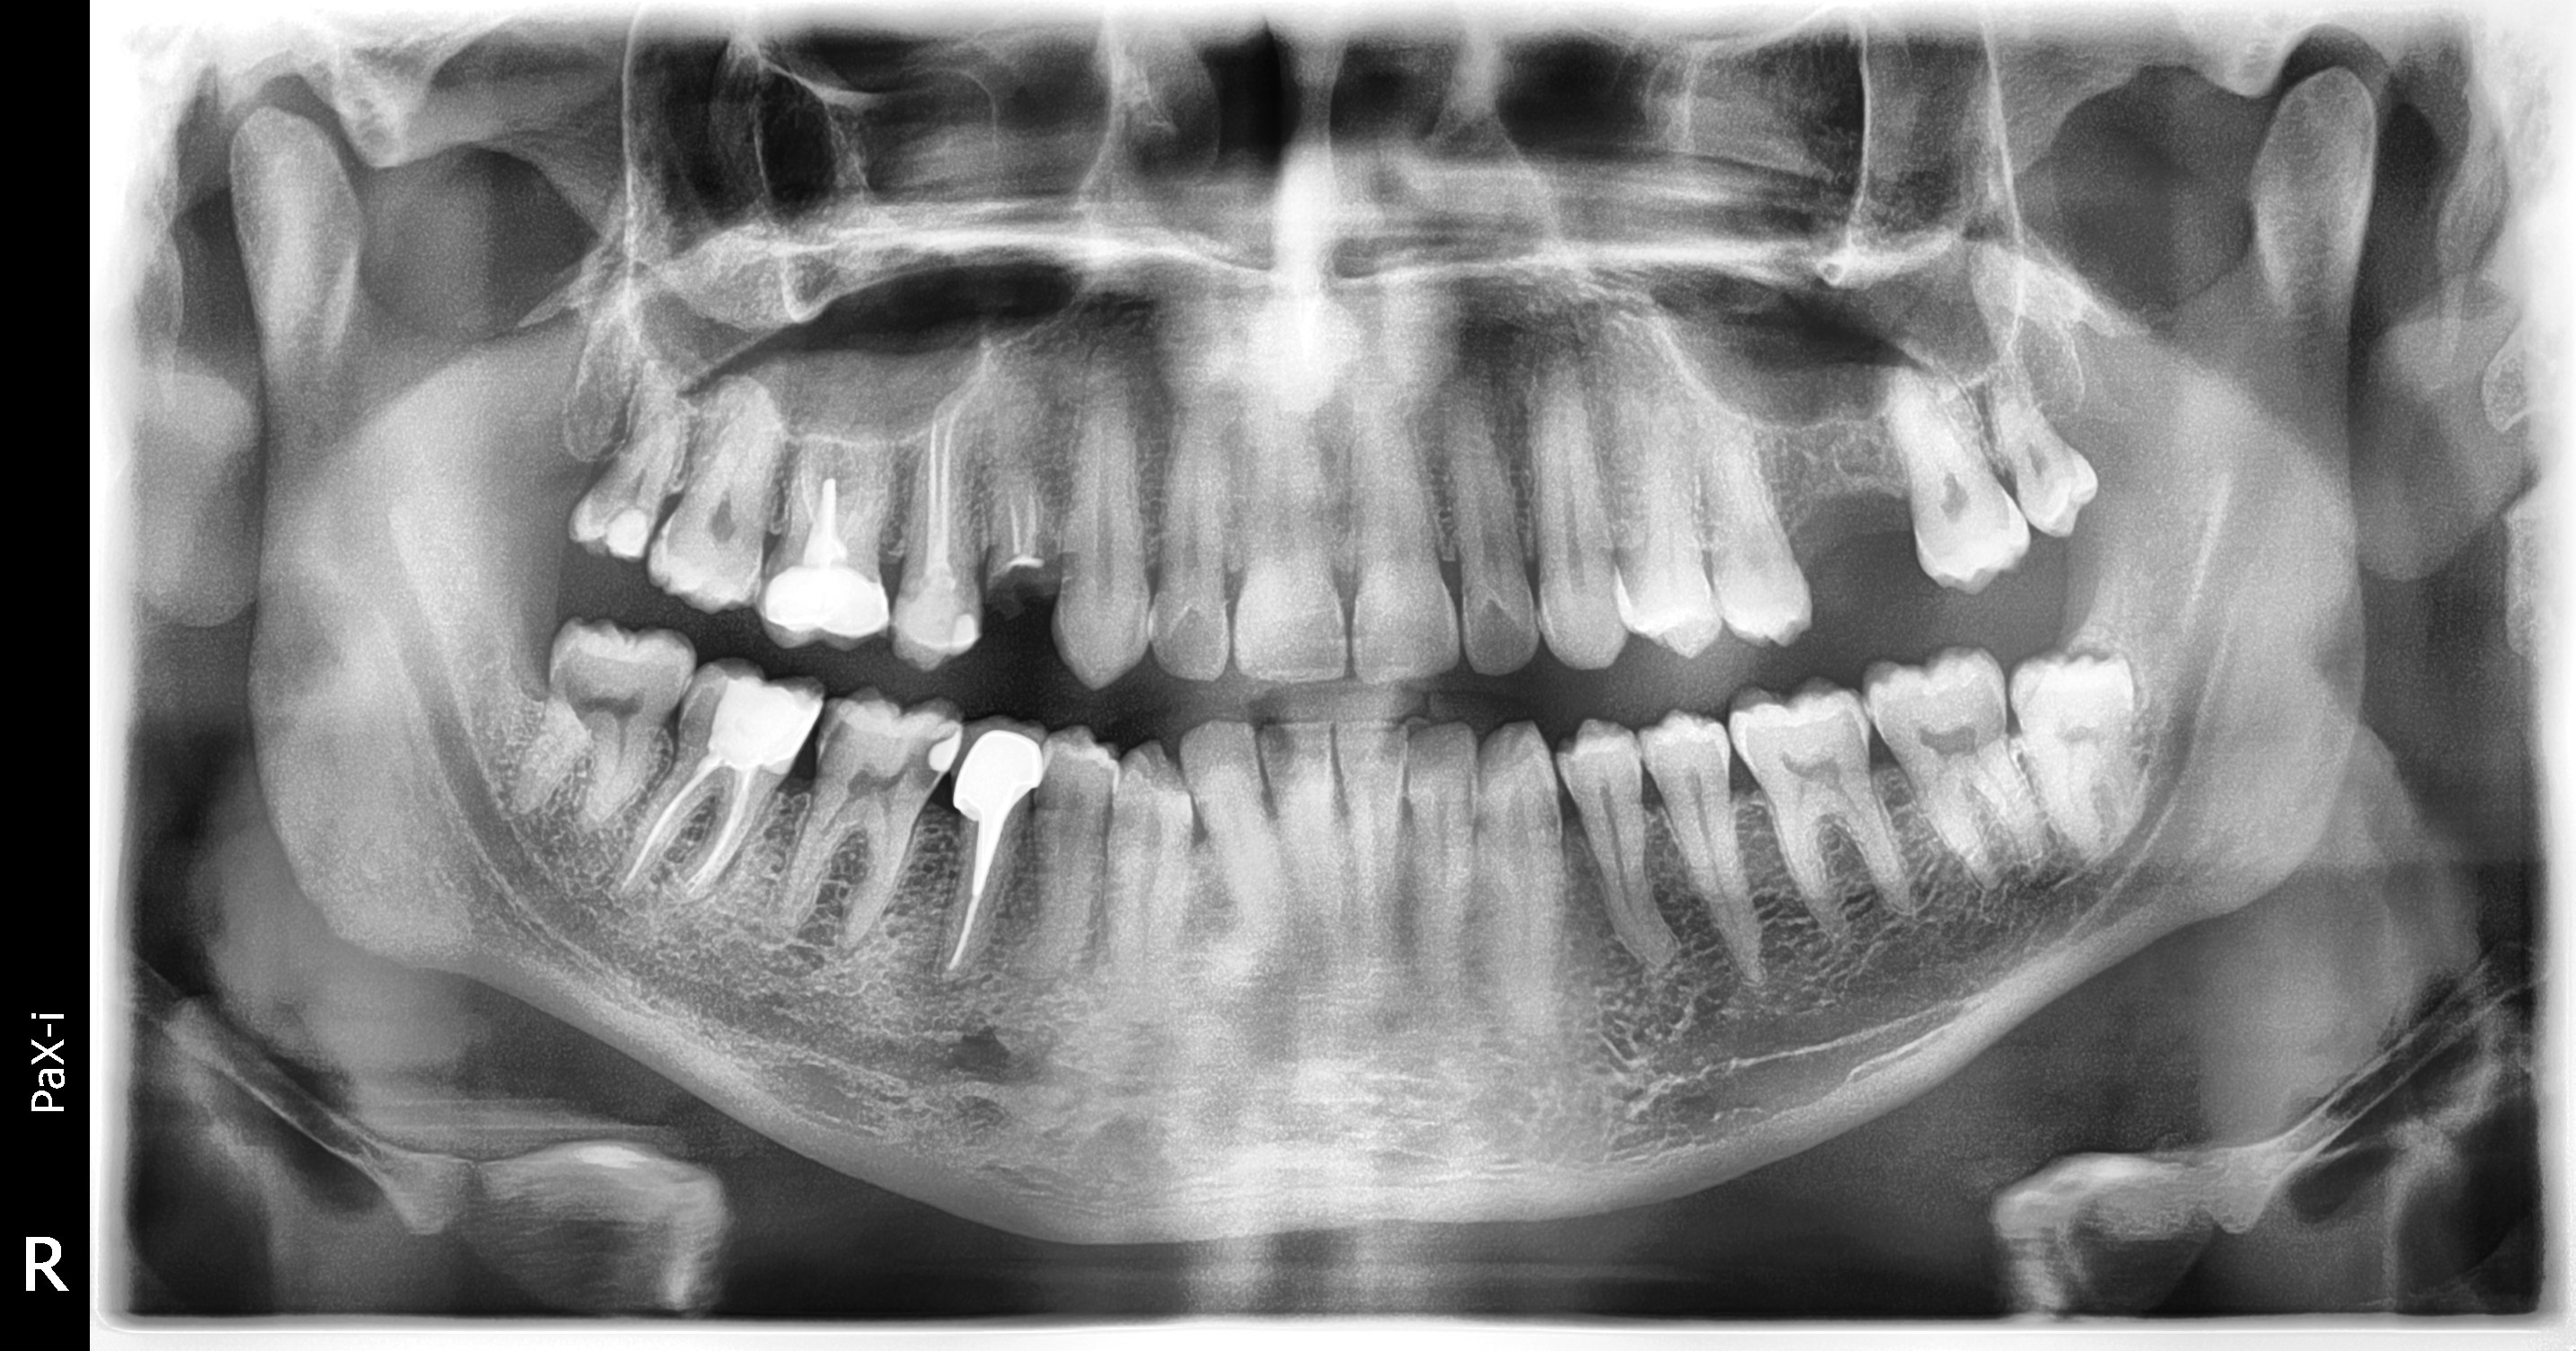CAR: (901, 704, 952, 806), (809, 695, 865, 763), (644, 516, 709, 564)
END: (612, 765, 773, 946), (889, 358, 997, 589), (792, 395, 884, 562), (940, 819, 1015, 1002), (986, 460, 1048, 569)
IMT: (2000, 622, 2174, 893)
OBT: (736, 555, 894, 651), (695, 649, 796, 775), (879, 562, 990, 670), (598, 501, 656, 596), (934, 600, 988, 661), (910, 726, 968, 782)
PRR: (944, 702, 1046, 833)
ROT: (978, 433, 1056, 624)
